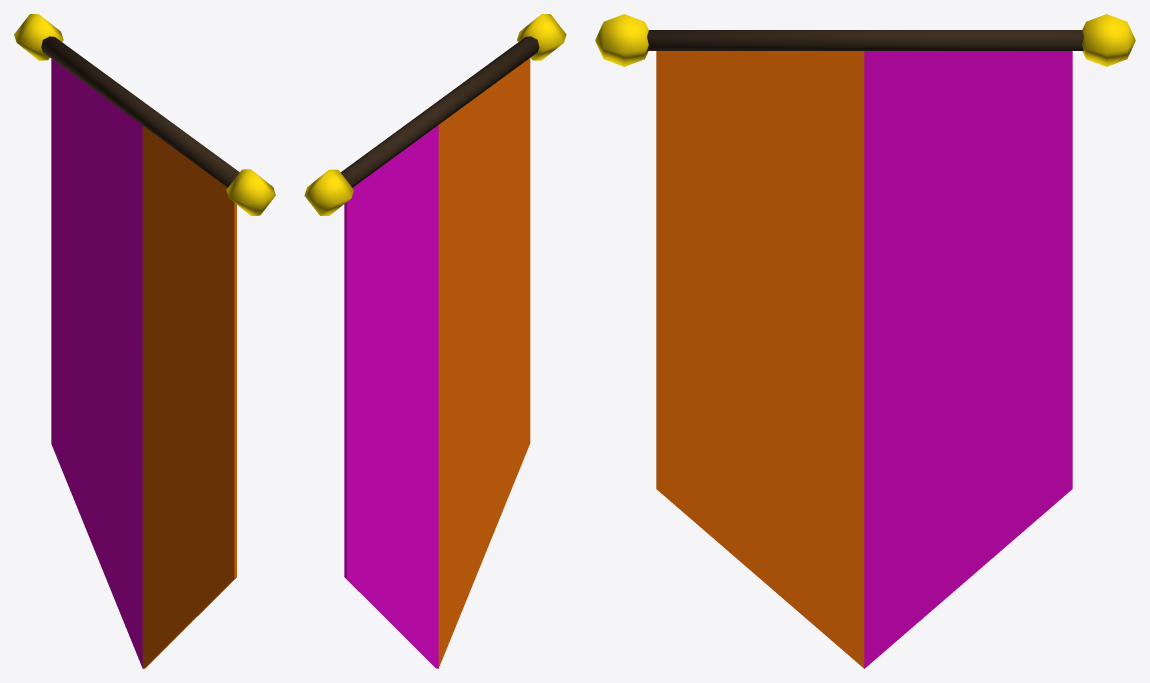
File: Flag_6.fbx
3 renders of one model, left to right at view 1: azimuth 30°, elevation 25°; view 2: azimuth 150°, elevation 25°; view 3: azimuth 270°, elevation 25°, orthographic. The views are drawn at different scales.
Parts seen in each view (by area): view 1: Flag_6; view 2: Flag_6; view 3: Flag_6.
Boxes of the visible parts, left/top/right/bottom form: Flag_6: left=14, top=14, right=275, bottom=668; Flag_6: left=304, top=14, right=566, bottom=668; Flag_6: left=595, top=14, right=1135, bottom=668.
Bounding box in the file's own units: 0.1188 × 1.47 × 1.1.
